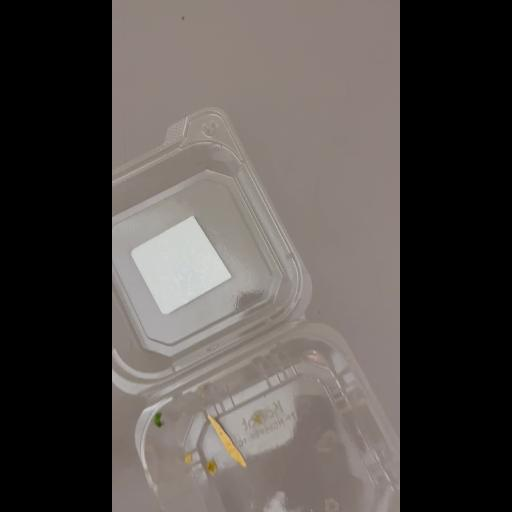small_plastic_container: (112, 116, 400, 512)
